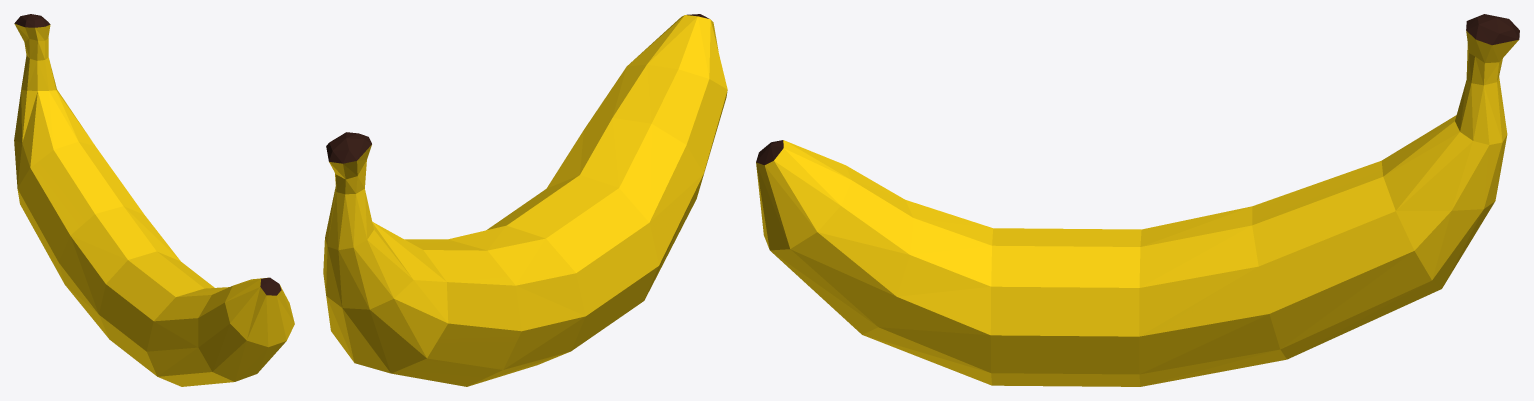
Rendered from banana.obj.
The picture shows the model from 3 angles, left to right: view 1: azimuth 30°, elevation 25°; view 2: azimuth 150°, elevation 25°; view 3: azimuth 270°, elevation 25°; orthographic projection. The views are drawn at different scales.
Size of the model in its own units: 0.2678 by 0.6482 by 1.23.
